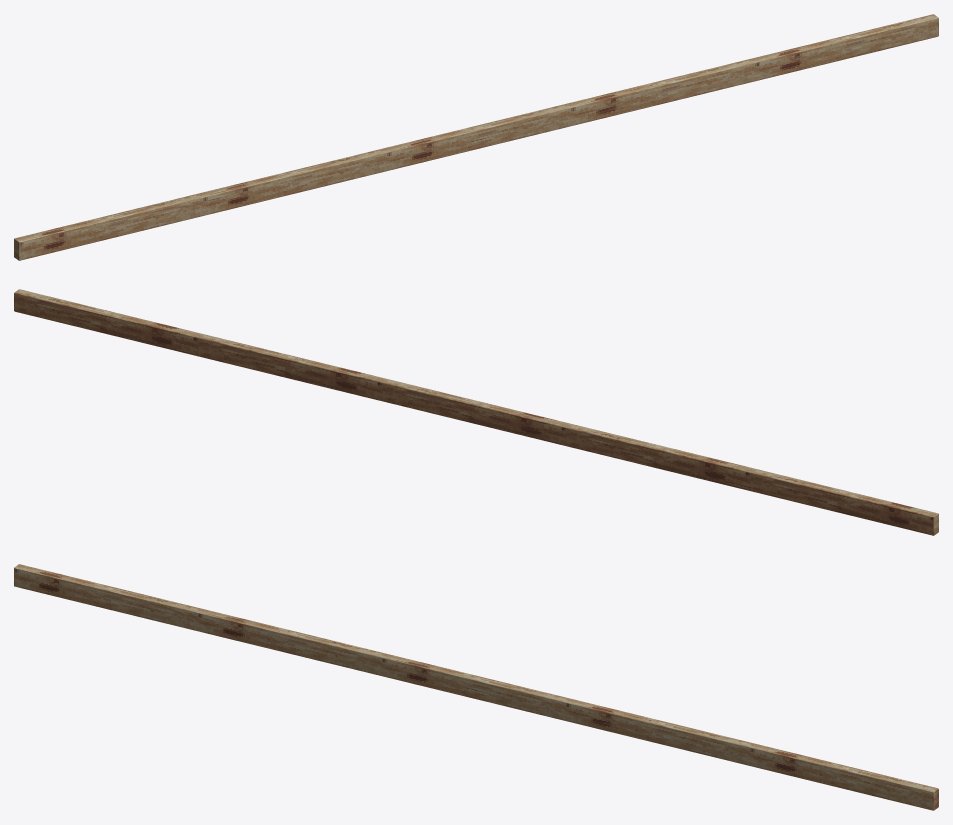
Rendered from gk_joist.glb.
3 renders of one model, top to bottom at view 1: azimuth 30°, elevation 25°; view 2: azimuth 150°, elevation 25°; view 3: azimuth 330°, elevation 25°, orthographic.
Visible parts, largest first — view 1: mesh; view 2: mesh; view 3: mesh.
Part boxes in pixels (x1,y1,x2,y2): mesh: (14, 14, 938, 260); mesh: (14, 289, 938, 535); mesh: (14, 564, 938, 810).
Bounding box in the file's own units: 5 × 0.1019 × 0.0501.
1 material, 1 textured.
